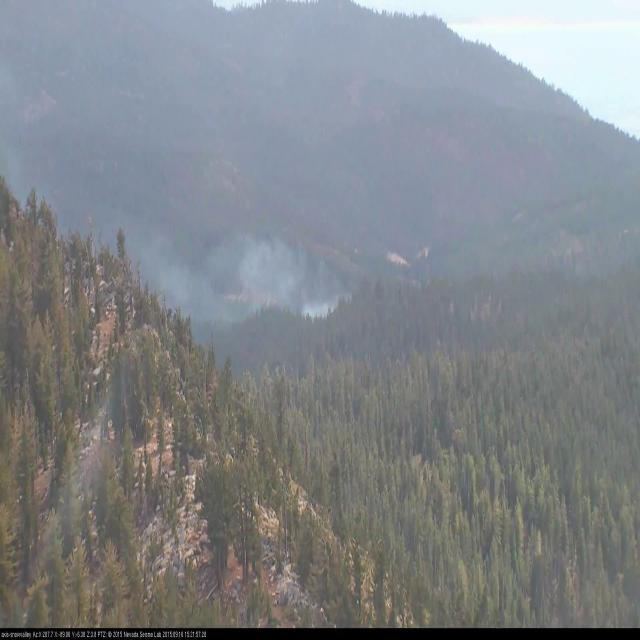smoke: (149, 214, 362, 325)
